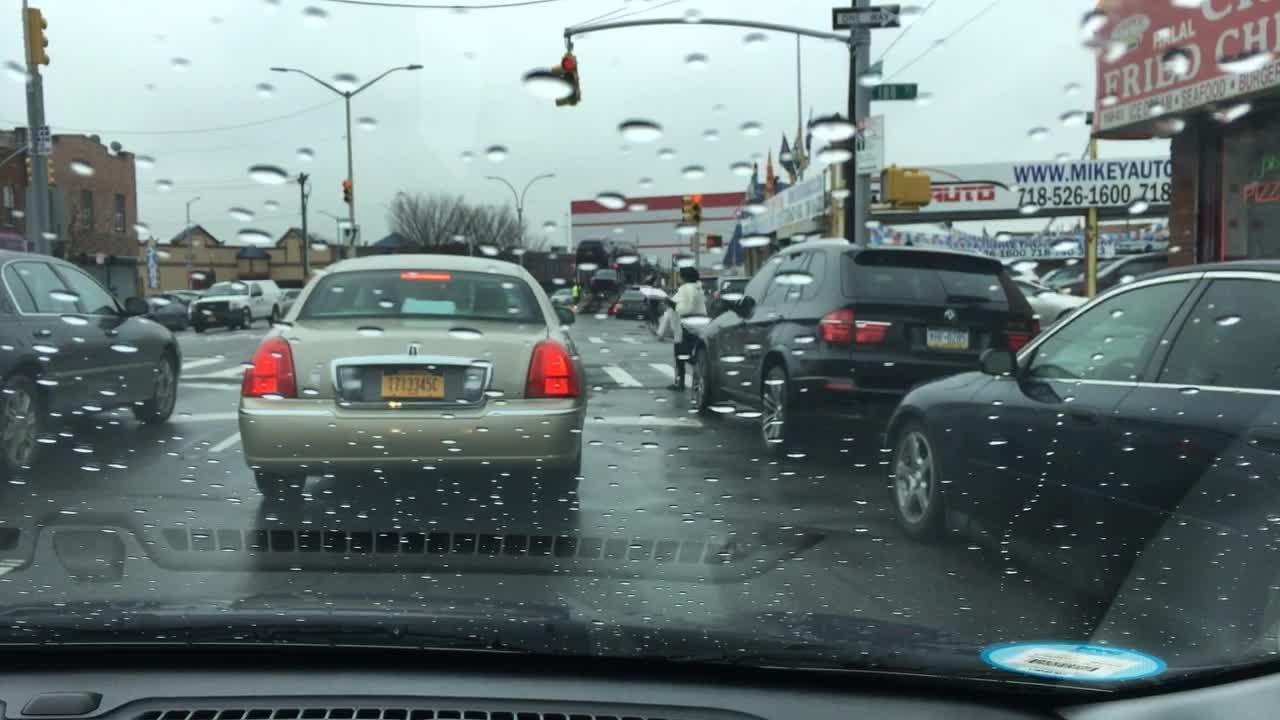bmw: (933, 297, 966, 330)
lincoln: (402, 337, 430, 365)
